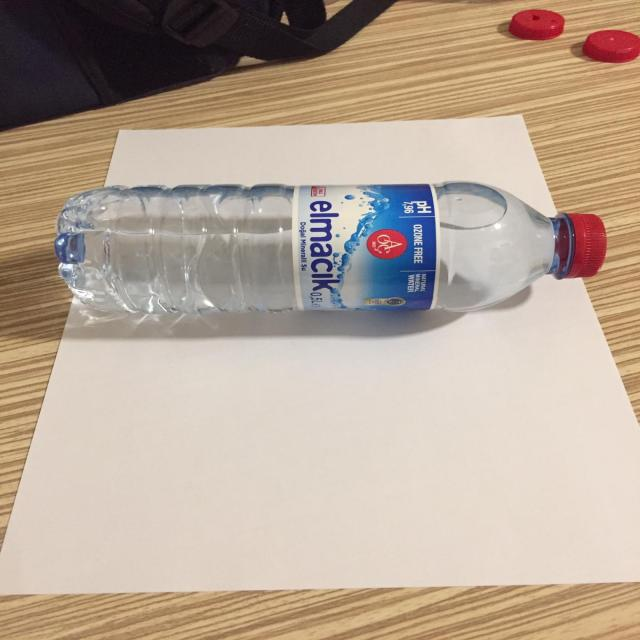bottle: (44, 170, 614, 330)
